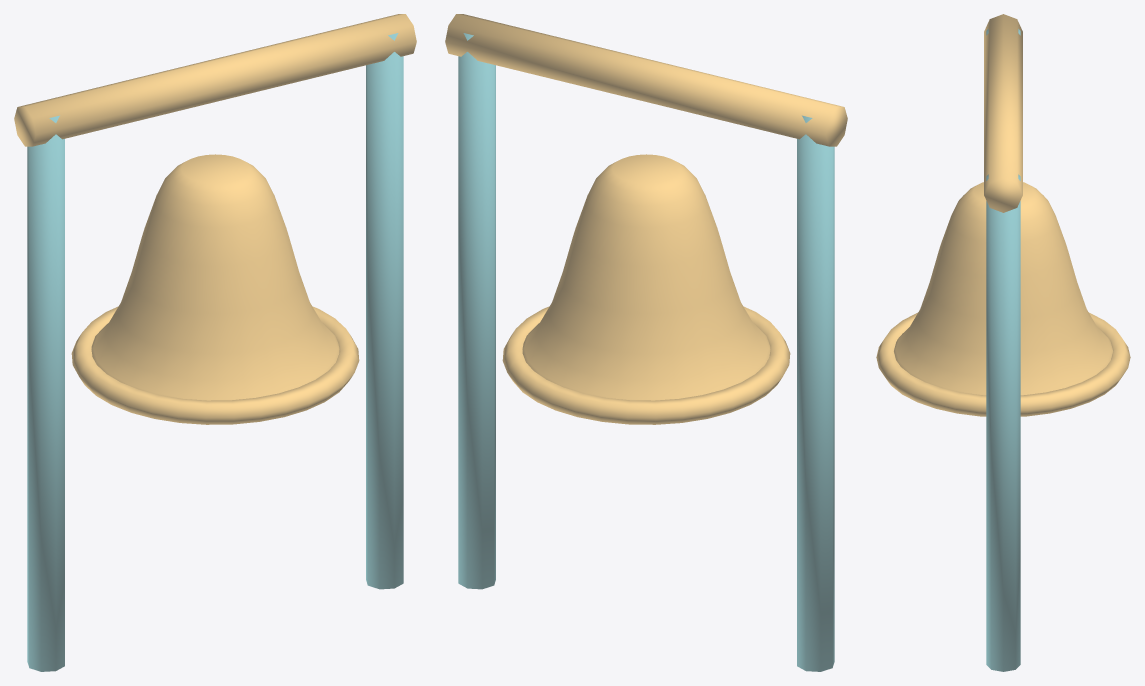
The model's file is sky_bell.glb.
3 views of the same model, side by side, from view 1: azimuth 30°, elevation 25°; view 2: azimuth 150°, elevation 25°; view 3: azimuth 270°, elevation 25° (orthographic). The views are drawn at different scales.
Parts seen in each view (by area): view 1: sky_bell_surface; view 2: sky_bell_surface; view 3: sky_bell_surface.
Part boxes in pixels (x1,y1,x2,y2): sky_bell_surface: (14,14,416,671); sky_bell_surface: (445,14,847,671); sky_bell_surface: (876,14,1130,671).
Bounding box in the file's own units: 3.6 × 5.08 × 2.36.
